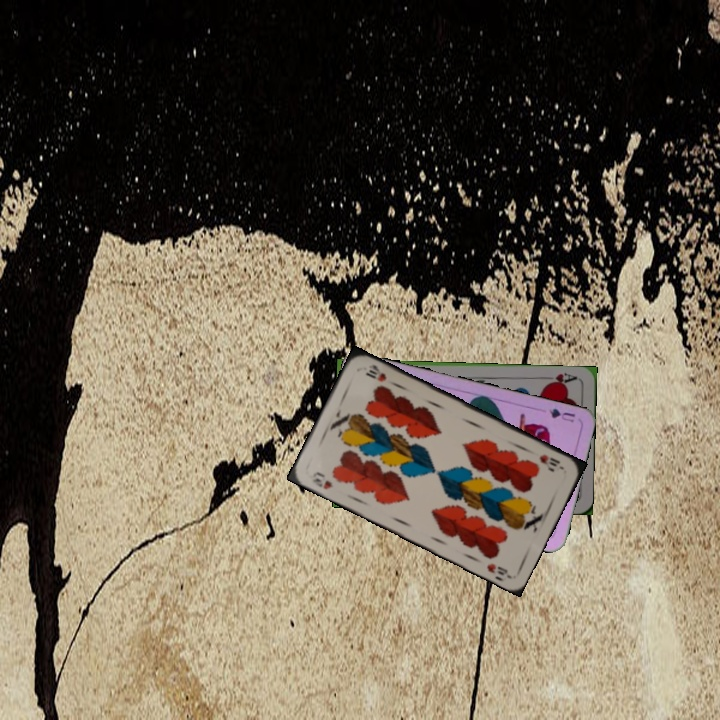GU: (544, 404, 578, 425)
H10: (305, 468, 336, 492), (535, 450, 563, 469)
HA: (540, 369, 580, 388)
